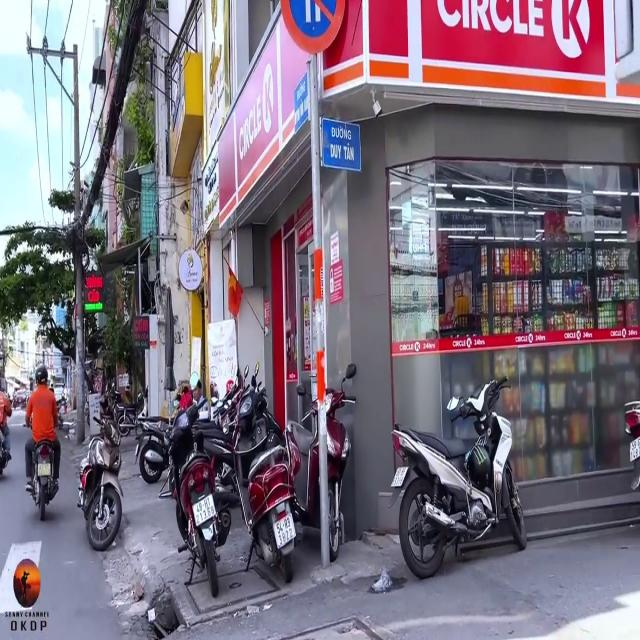bien_trang: (271, 517, 300, 550), (193, 493, 217, 527)
